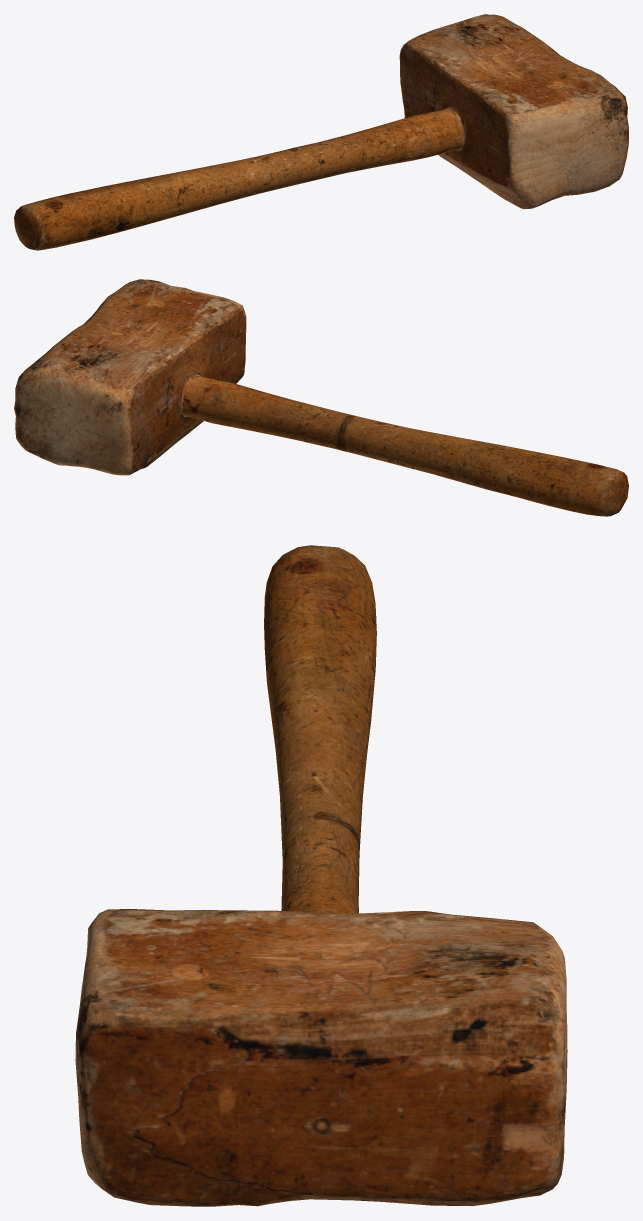
Rendered from Hand_Tools_Pack_ubikcfuva_Mid_Hammer.fbx.
The picture shows the model from 3 angles, top to bottom: view 1: azimuth 30°, elevation 25°; view 2: azimuth 150°, elevation 25°; view 3: azimuth 270°, elevation 25°; orthographic projection. The views are drawn at different scales.
Parts seen in each view (by area): view 1: ubikcfuva_LOD0_TIER2_001; view 2: ubikcfuva_LOD0_TIER2_001; view 3: ubikcfuva_LOD0_TIER2_001.
Boxes of the visible parts, box(x1,y1,x2,y2) form: ubikcfuva_LOD0_TIER2_001: box(14, 14, 628, 250); ubikcfuva_LOD0_TIER2_001: box(14, 279, 628, 516); ubikcfuva_LOD0_TIER2_001: box(75, 545, 567, 1206).
Bounding box in the file's own units: 40.26 × 7.01 × 15.67.
Materials: 1 (1 with a texture image).
